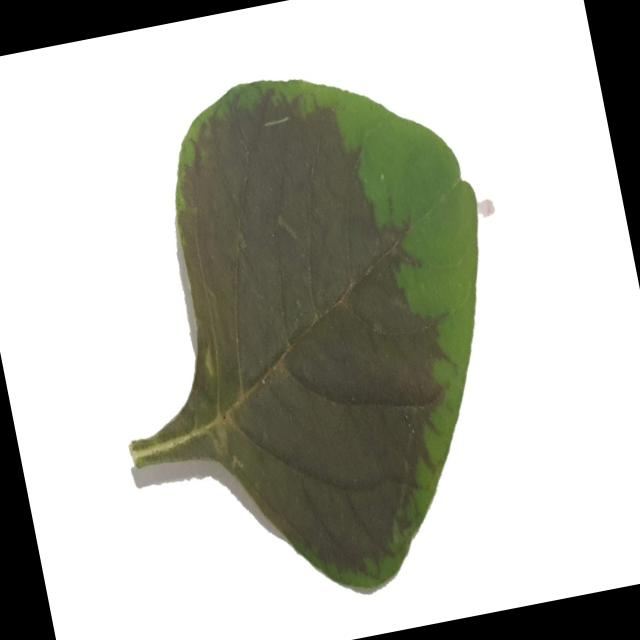Medicinal-Arive Dantu: (58, 39, 544, 628)
